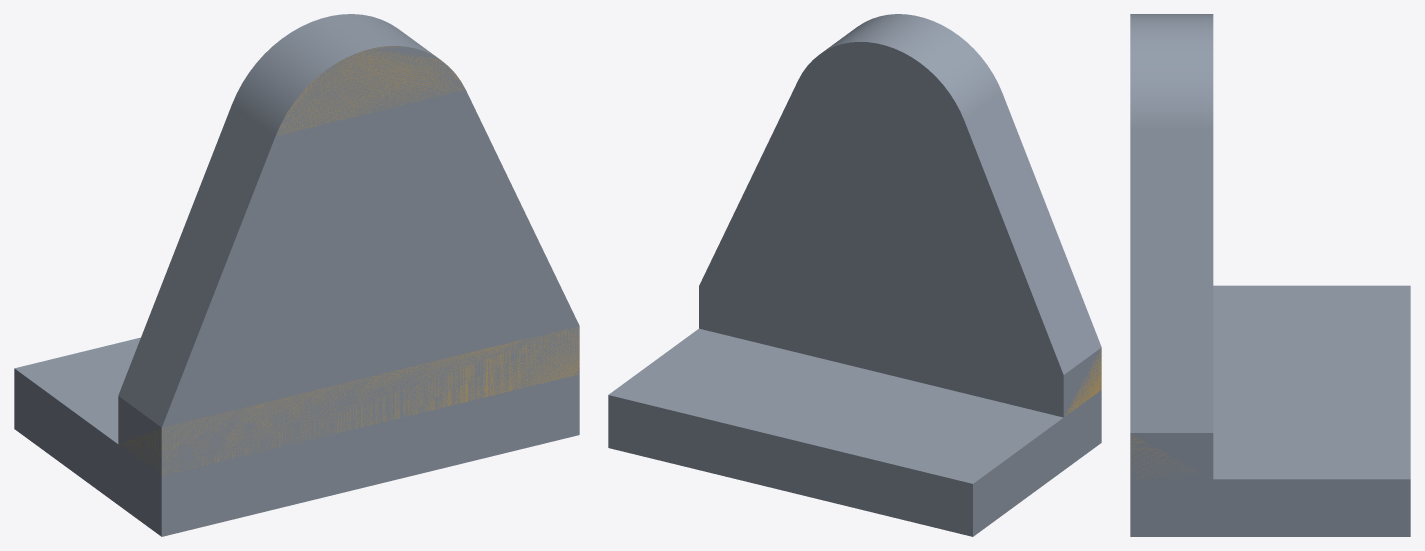
The model's file is step_04.glb.
The picture shows the model from 3 angles, left to right: view 1: azimuth 30°, elevation 25°; view 2: azimuth 150°, elevation 25°; view 3: azimuth 270°, elevation 25°; orthographic projection. The views are drawn at different scales.
Parts seen in each view (by area): view 1: part__fork bracket, added__fork bracket; view 2: part__fork bracket, added__fork bracket; view 3: part__fork bracket.
Part boxes in pixels (<box>): part__fork bracket: <box>14,14,579,536</box>; added__fork bracket: <box>119,46,579,475</box>; part__fork bracket: <box>608,14,1101,536</box>; added__fork bracket: <box>1065,349,1101,415</box>; part__fork bracket: <box>1130,14,1410,536</box>.
Bounding box in the file's own units: 72 × 71.98 × 44.
